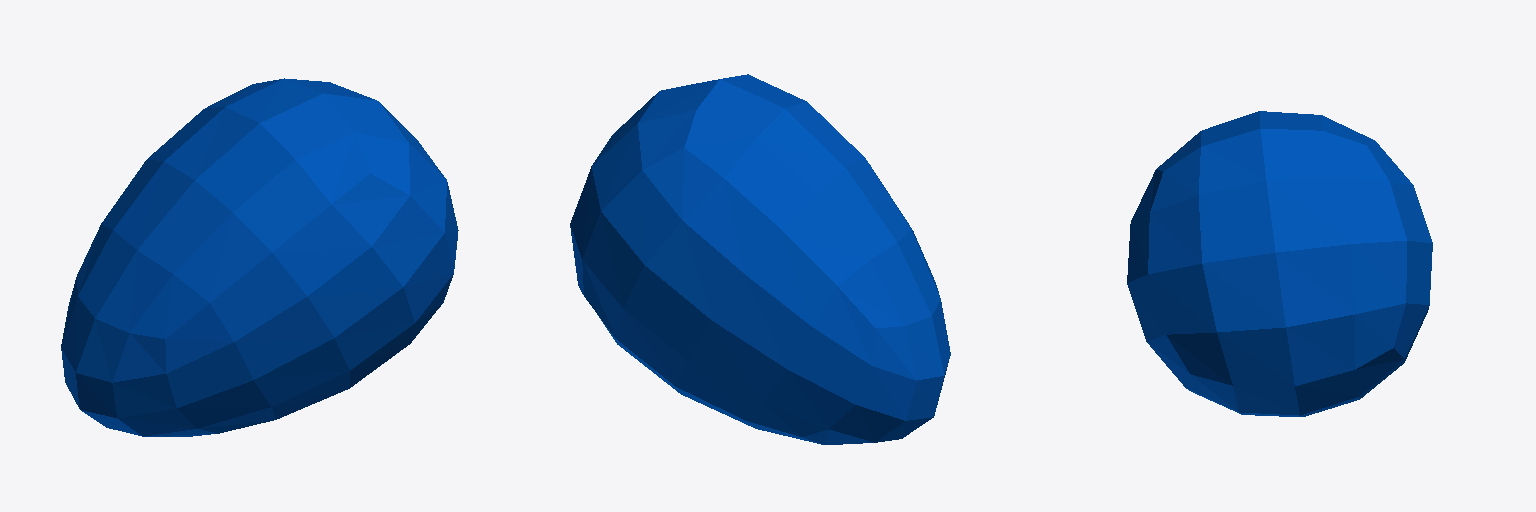
Rendered from fluffBrazo.obj.
The picture shows the model from 3 angles: view 1: azimuth 30°, elevation 25°; view 2: azimuth 150°, elevation 25°; view 3: azimuth 270°, elevation 25°; orthographic projection.
Parts seen in each view (by area): view 1: Cube.001; view 2: Cube.001; view 3: Cube.001.
Part boxes in pixels (bbox=[...]): Cube.001: bbox=[61, 78, 458, 436]; Cube.001: bbox=[570, 74, 950, 444]; Cube.001: bbox=[1127, 111, 1432, 416].
Bounding box in the file's own units: 0.9974 × 0.8317 × 0.7406.